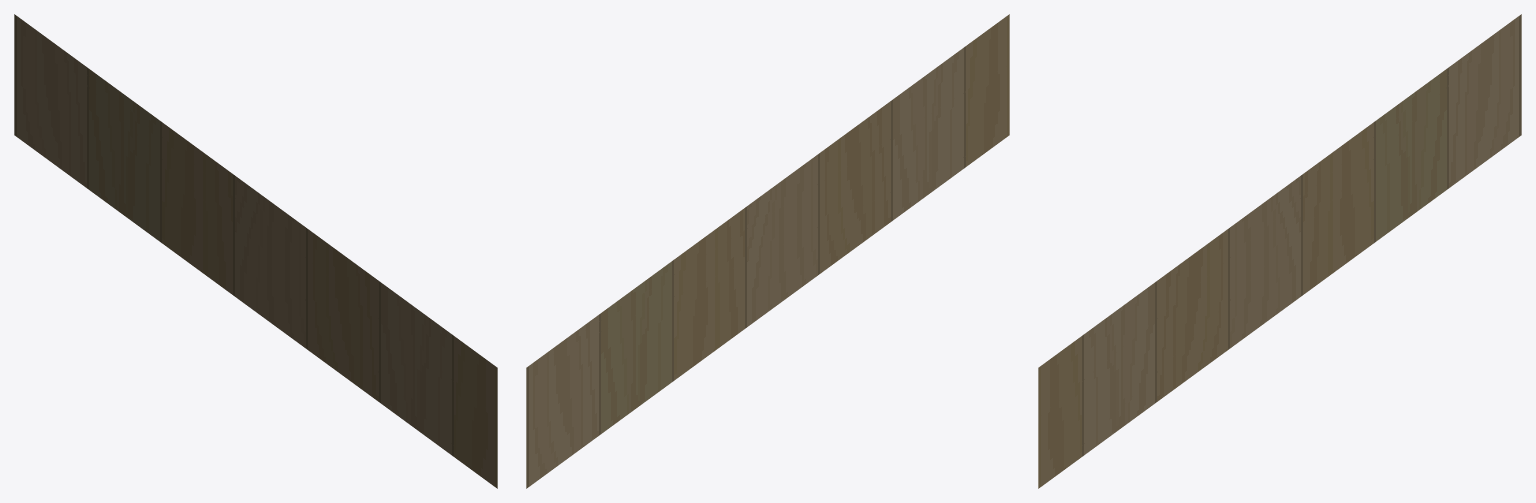
The model's file is kd_stage_135ded_4_74_exterior_piece_2.glb.
The picture shows the model from 3 angles, left to right: view 1: azimuth 30°, elevation 25°; view 2: azimuth 150°, elevation 25°; view 3: azimuth 330°, elevation 25°; orthographic projection.
Parts seen in each view (by area): view 1: kd_stage_135ded_4_74_exterior_piece_2; view 2: kd_stage_135ded_4_74_exterior_piece_2; view 3: kd_stage_135ded_4_74_exterior_piece_2.
Part boxes in pixels (bbox=[...]): kd_stage_135ded_4_74_exterior_piece_2: bbox=[14, 14, 497, 488]; kd_stage_135ded_4_74_exterior_piece_2: bbox=[526, 14, 1009, 488]; kd_stage_135ded_4_74_exterior_piece_2: bbox=[1038, 14, 1521, 488].
Size of the model in its own units: 0 by 0.0795 by 0.575.
1 material, 1 textured.
